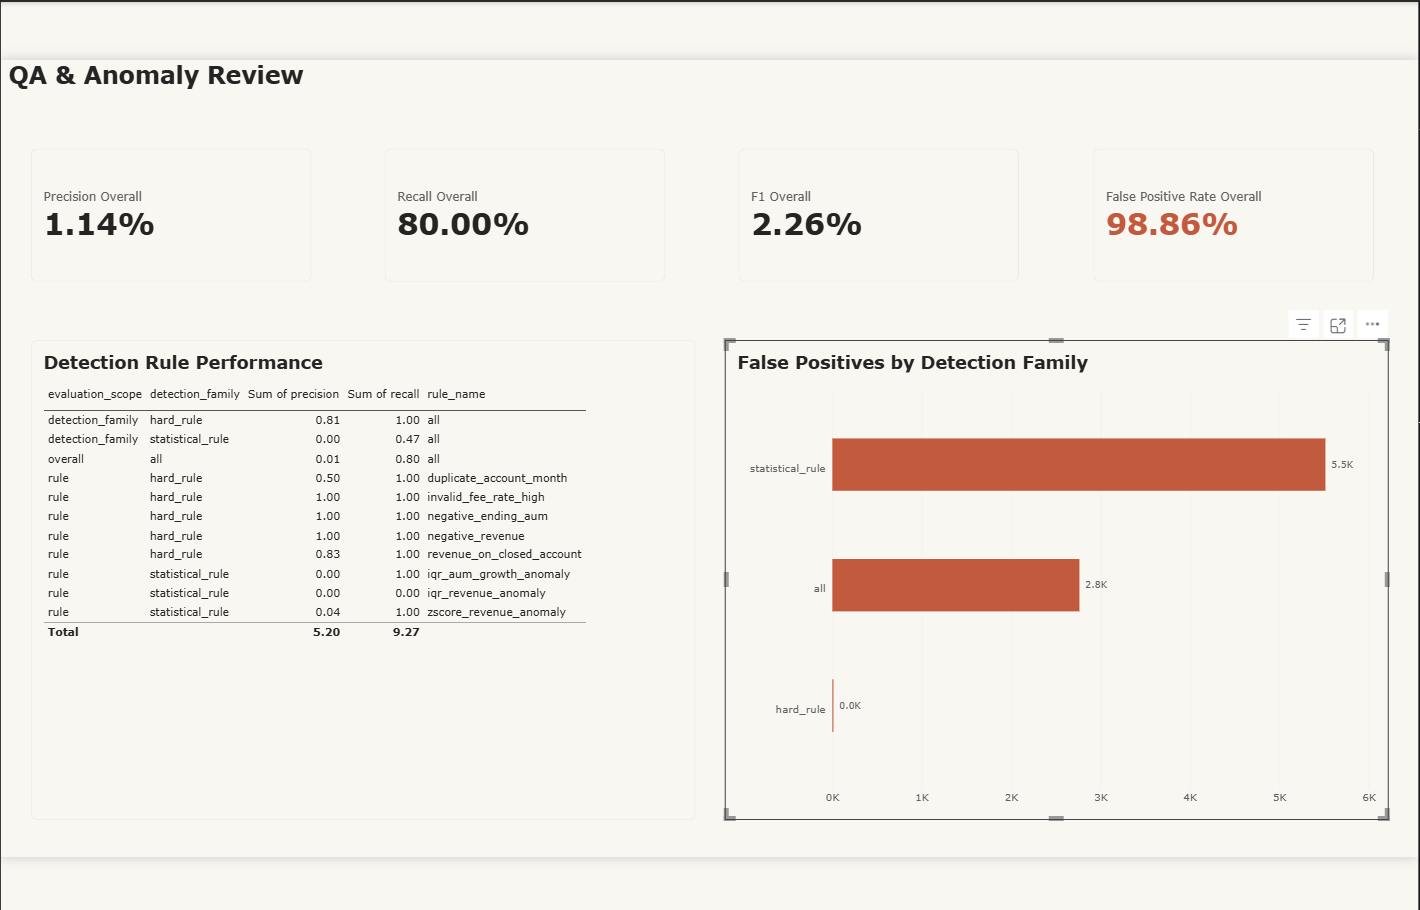

This screenshot's page, from the dashboard's own definition file:
{"tool":"powerbi","page":{"name":"QA Review","canvas":[1920,1080],"ordinal":2},"visuals":[{"type":"textbox","box":[10.1,0,776.4,280.7],"z":0},{"type":"cardVisual","fields":{"Data":["qa_metrics.Precision Overall"]},"box":[40,120,380,180],"z":1000},{"type":"cardVisual","fields":{"Data":["qa_metrics.Recall Overall"]},"box":[520,120,380,180],"z":2000},{"type":"cardVisual","fields":{"Data":["qa_metrics.F1 Overall"]},"box":[1000,120,380,180],"z":3000},{"type":"cardVisual","fields":{"Data":["qa_metrics.False Positive Rate Overall"]},"box":[1480,120,380,180],"z":4000},{"type":"tableEx","title":"Detection Rule Performance","fields":{"Values":["qa_metrics.evaluation_scope","qa_metrics.detection_family","Sum(qa_metrics.precision)","Sum(qa_metrics.recall)","qa_metrics.rule_name"]},"box":[40,380,900,650],"z":5000},{"type":"clusteredBarChart","title":"False Positives by Detection Family","fields":{"Category":["qa_metrics.detection_family"],"Y":["Sum(qa_metrics.false_positives)"]},"box":[980,380,900,650],"z":5001}]}

Visuals, with their boxes on the page's 1920x1080 design canvas (x1, y1, x2, y2). These are canvas units, not pixel positions in the 1420x910 screenshot, which may show the page scaled, cropped or inside an application window:
textbox: 10:0:786:281
cardVisual - qa_metrics.Precision Overall: 40:120:420:300
cardVisual - qa_metrics.Recall Overall: 520:120:900:300
cardVisual - qa_metrics.F1 Overall: 1000:120:1380:300
cardVisual - qa_metrics.False Positive Rate Overall: 1480:120:1860:300
"Detection Rule Performance" tableEx: 40:380:940:1030
"False Positives by Detection Family" clusteredBarChart: 980:380:1880:1030
